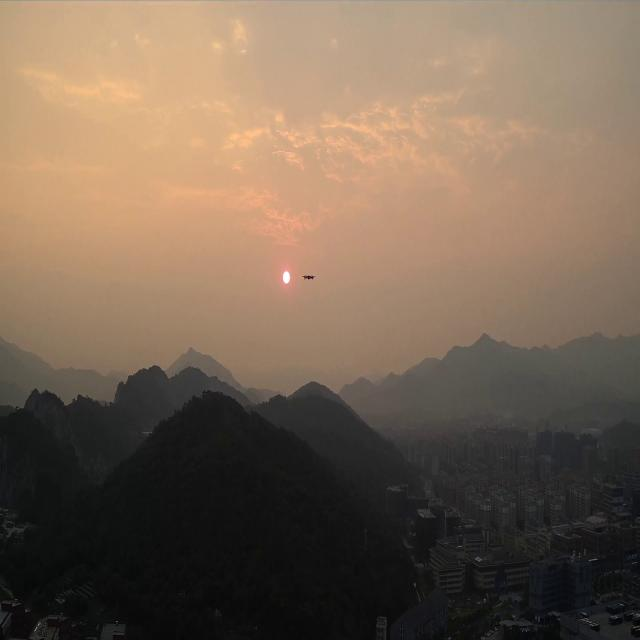UAV: (302, 273, 316, 281)
